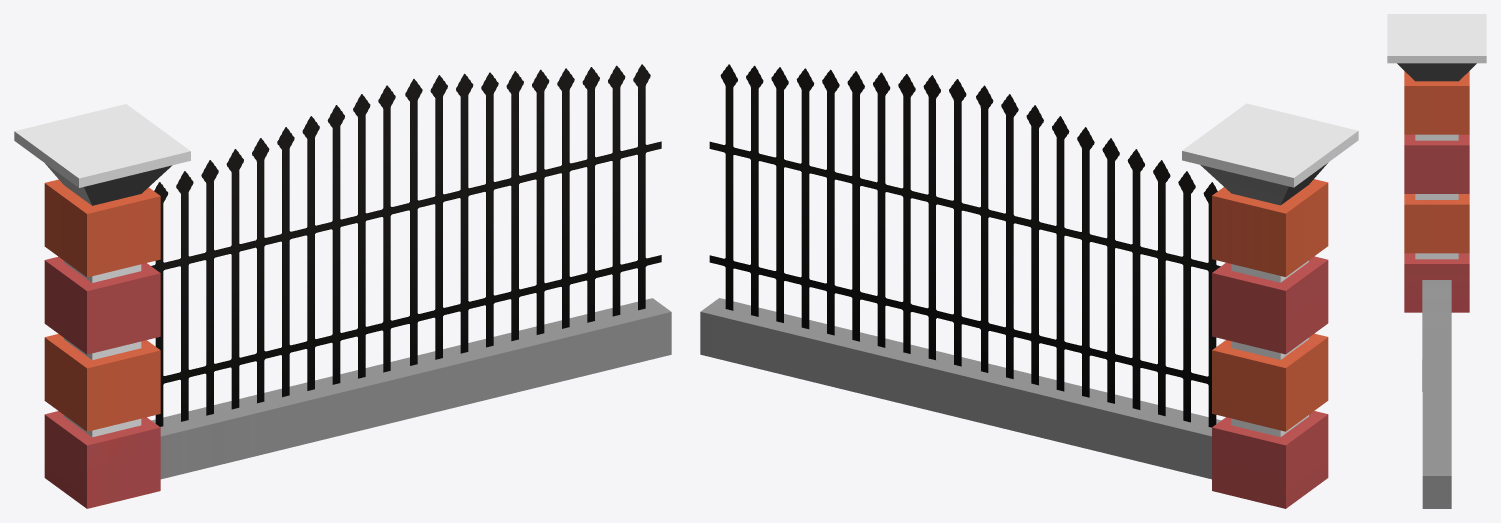
3 views of the same model, side by side, from view 1: azimuth 30°, elevation 25°; view 2: azimuth 150°, elevation 25°; view 3: azimuth 270°, elevation 25° (orthographic). The views are drawn at different scales.
Parts seen in each view (by area): view 1: Lo-围墙样式D_01; view 2: Lo-围墙样式D_01; view 3: Lo-围墙样式D_01.
Boxes of the visible parts, x1,y1,x2,y2 form: Lo-围墙样式D_01: (14, 64, 671, 508); Lo-围墙样式D_01: (700, 64, 1358, 508); Lo-围墙样式D_01: (1387, 14, 1486, 508).
Bounding box in the file's own units: 4.03 × 2.15 × 0.7325.
2 materials, 2 textured.
